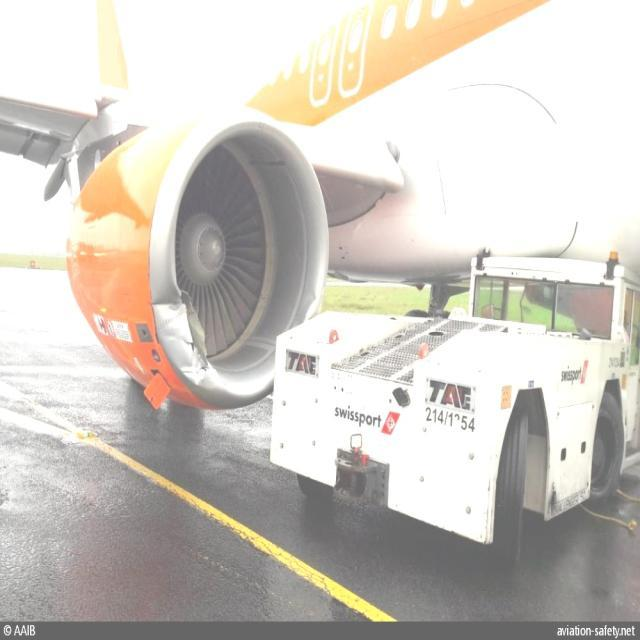crack: (178, 290, 213, 374)
dent: (155, 295, 185, 334), (180, 357, 208, 388), (306, 288, 327, 322)
